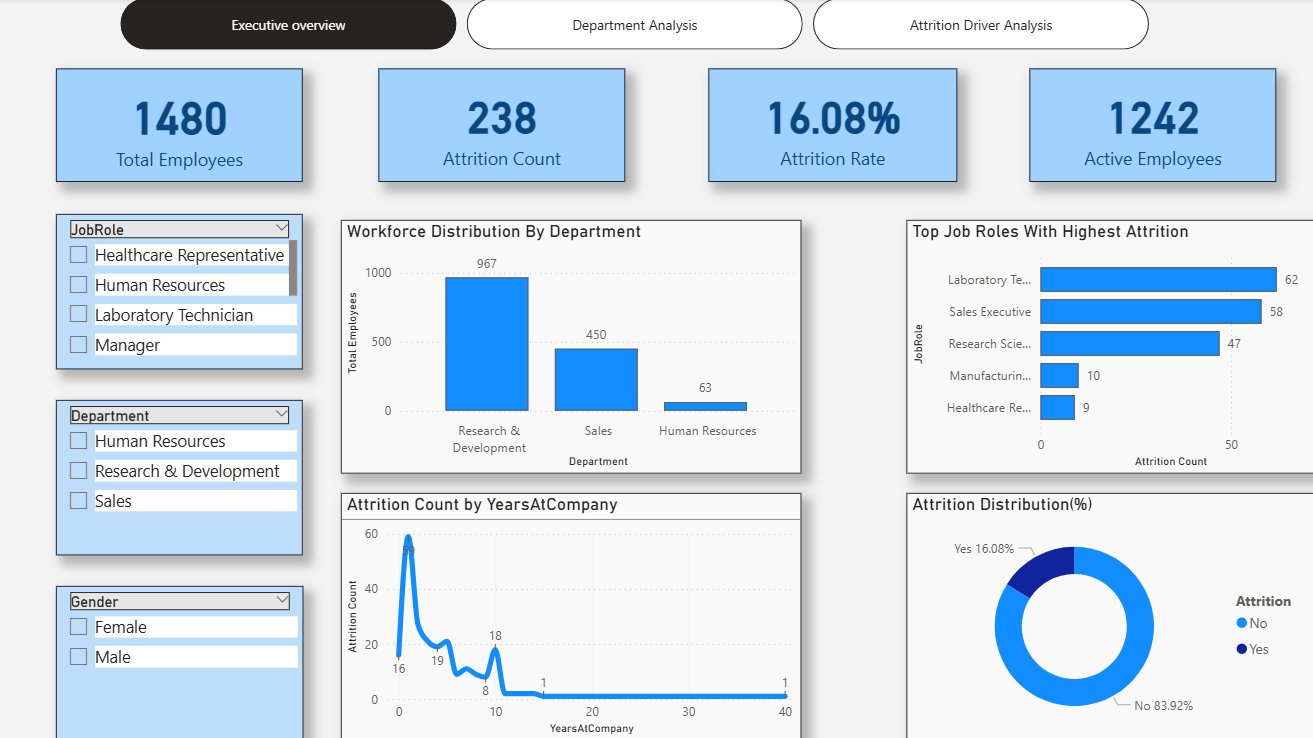

This screenshot's page, from the dashboard's own definition file:
{"tool":"powerbi","page":{"name":"Executive overview","canvas":[1280,720],"ordinal":0},"visuals":[{"type":"card","fields":{"Values":["Dim_Education.Total Employees"]},"box":[58.3,68,239.6,110.1],"z":0},{"type":"card","fields":{"Values":["Dim_Education.Attrition Count"]},"box":[370.8,68,239.6,110.1],"z":1000},{"type":"card","fields":{"Values":["Dim_Education.Active Employees"]},"box":[1002.3,68,239.6,110.1],"z":2000},{"type":"card","fields":{"Values":["Dim_Education.Attrition Rate"]},"box":[691.4,68,241.3,110.1],"z":3000},{"type":"clusteredColumnChart","title":"Workforce Distribution By Department","fields":{"Category":["Dim_Job.Department"],"Y":["Dim_Education.Total Employees"]},"box":[335.2,215.4,446.9,246.1],"z":4000},{"type":"lineChart","fields":{"Category":["Fact_Employee.YearsAtCompany"],"Y":["Dim_Education.Attrition Count"]},"box":[335.2,480.4,446.9,239.6],"z":5000},{"type":"clusteredBarChart","title":"Top Job Roles With Highest Attrition","fields":{"Category":["Dim_Job.JobRole"],"Y":["Dim_Education.Attrition Count"]},"box":[884.1,215.4,396.7,246.1],"z":6000},{"type":"donutChart","title":"Attrition Distribution(%)","fields":{"Category":["Fact_Employee.Attrition"],"Y":["Dim_Education.Total Employees"]},"box":[884.1,480.4,396.7,239.6],"z":7000},{"type":"slicer","fields":{"Values":["Dim_Job.Department"]},"box":[58.3,389.4,239.6,150.6],"z":8000},{"type":"slicer","fields":{"Values":["Dim_Job.JobRole"]},"box":[58.3,208.9,239.6,150.6],"z":9000},{"type":"slicer","fields":{"Values":["Dim_Employee.Gender"]},"box":[58.2,570.1,240.3,149.3],"z":10000},{"type":"pageNavigator","box":[121.4,0,1000.7,50.2],"z":11000}]}

Visuals, with their boxes in screenshot pixels (x1, y1, x2, y2), scaled from the page's 1280x720 canvas onto the 1313x738 screenshot:
card - Dim_Education.Total Employees: select_region(60, 70, 306, 183)
card - Dim_Education.Attrition Count: select_region(380, 70, 626, 183)
card - Dim_Education.Active Employees: select_region(1028, 70, 1274, 183)
card - Dim_Education.Attrition Rate: select_region(709, 70, 957, 183)
"Workforce Distribution By Department" clusteredColumnChart: select_region(344, 221, 802, 473)
lineChart - Fact_Employee.YearsAtCompany x Dim_Education.Attrition Count: select_region(344, 492, 802, 737)
"Top Job Roles With Highest Attrition" clusteredBarChart: select_region(907, 221, 1312, 473)
"Attrition Distribution(%)" donutChart: select_region(907, 492, 1312, 737)
slicer - Dim_Job.Department: select_region(60, 399, 306, 554)
slicer - Dim_Job.JobRole: select_region(60, 214, 306, 368)
slicer - Dim_Employee.Gender: select_region(60, 584, 306, 737)
pageNavigator: select_region(125, 0, 1151, 51)
